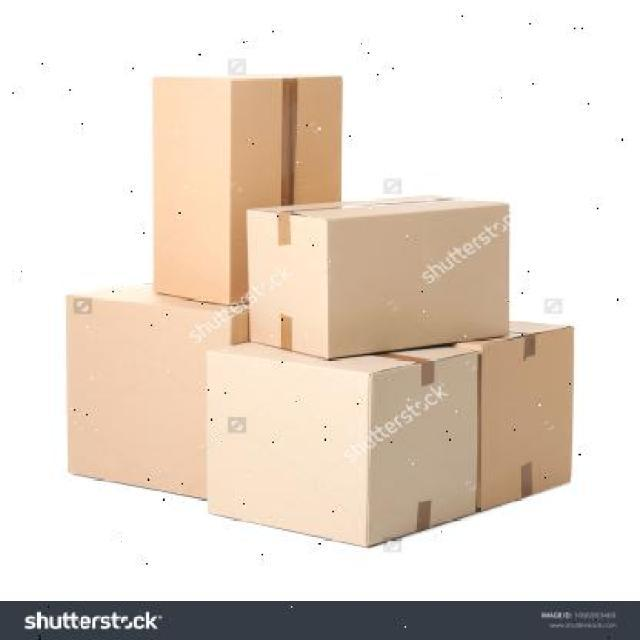BoxFace: (64, 294, 230, 500), (205, 348, 368, 550), (326, 202, 511, 360), (149, 73, 229, 304), (481, 323, 574, 517)
